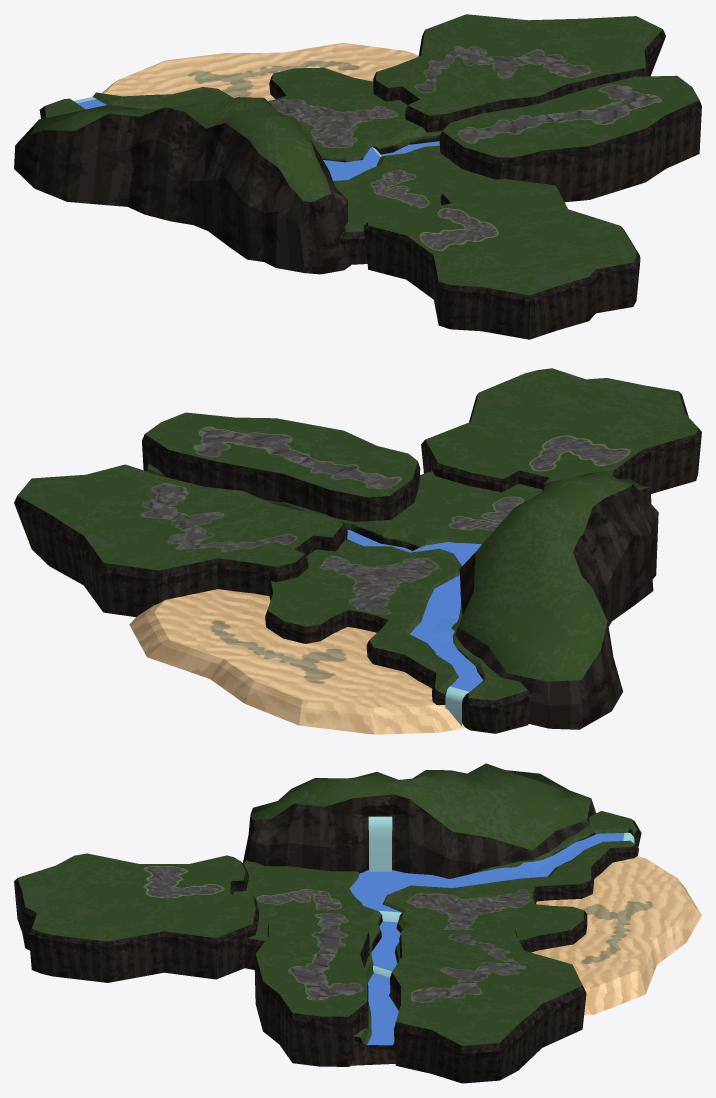
The model's file is Test Land 1.6.fbx.
3 renders of one model, top to bottom at view 1: azimuth 30°, elevation 25°; view 2: azimuth 150°, elevation 25°; view 3: azimuth 270°, elevation 25°, orthographic. The views are drawn at different scales.
Parts seen in each view (by area): view 1: Mountain, Lv4, Lv3, Lv2, Lv1, Lv0, River; view 2: Mountain, Lv2, Lv1, Lv4, Lv0, Lv3, River; view 3: Mountain, Lv4, Lv2, Lv1, Lv3, Lv0, River, WaterFall.
Boxes of the visible parts, x1=… form: Mountain: x1=14, y1=97, x2=350, y2=274; Lv4: x1=364, y1=178, x2=640, y2=339; Lv3: x1=439, y1=75, x2=701, y2=202; Lv2: x1=373, y1=14, x2=665, y2=132; Lv1: x1=39, y1=67, x2=498, y2=264; Lv0: x1=102, y1=42, x2=418, y2=101; River: x1=77, y1=99, x2=439, y2=180; Mountain: x1=455, y1=471, x2=658, y2=729; Lv2: x1=14, y1=464, x2=347, y2=616; Lv1: x1=147, y1=464, x2=542, y2=733; Lv4: x1=421, y1=368, x2=701, y2=493; Lv0: x1=129, y1=589, x2=465, y2=734; Lv3: x1=142, y1=412, x2=420, y2=521; River: x1=347, y1=529, x2=483, y2=691; Mountain: x1=243, y1=763, x2=596, y2=878; Lv4: x1=14, y1=853, x2=259, y2=982; Lv2: x1=390, y1=923, x2=586, y2=1083; Lv1: x1=233, y1=811, x2=641, y2=1065; Lv3: x1=254, y1=910, x2=369, y2=1066; Lv0: x1=531, y1=856, x2=701, y2=1015; River: x1=349, y1=833, x2=624, y2=1045; WaterFall: x1=368, y1=816, x2=392, y2=871.
Bounding box in the file's own units: 17226 × 18612 × 3185.
Materials: 5 (3 with a texture image).
